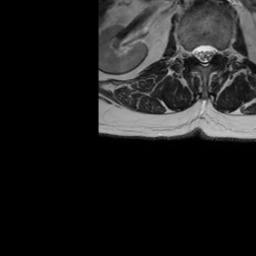CCS_normal: (201, 35, 209, 72)
LFS_stenosis: (217, 40, 224, 63)
LLS_normal: (209, 36, 217, 66)
RFS_normal: (184, 40, 192, 64)
RLS_normal: (192, 38, 201, 65)
